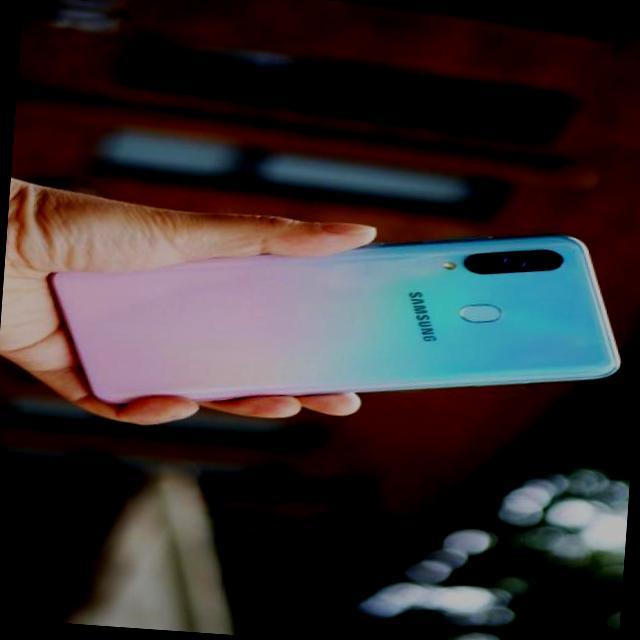lens_back: (496, 250, 529, 274), (530, 250, 562, 270), (464, 252, 493, 274)
phone: (44, 198, 626, 444)
